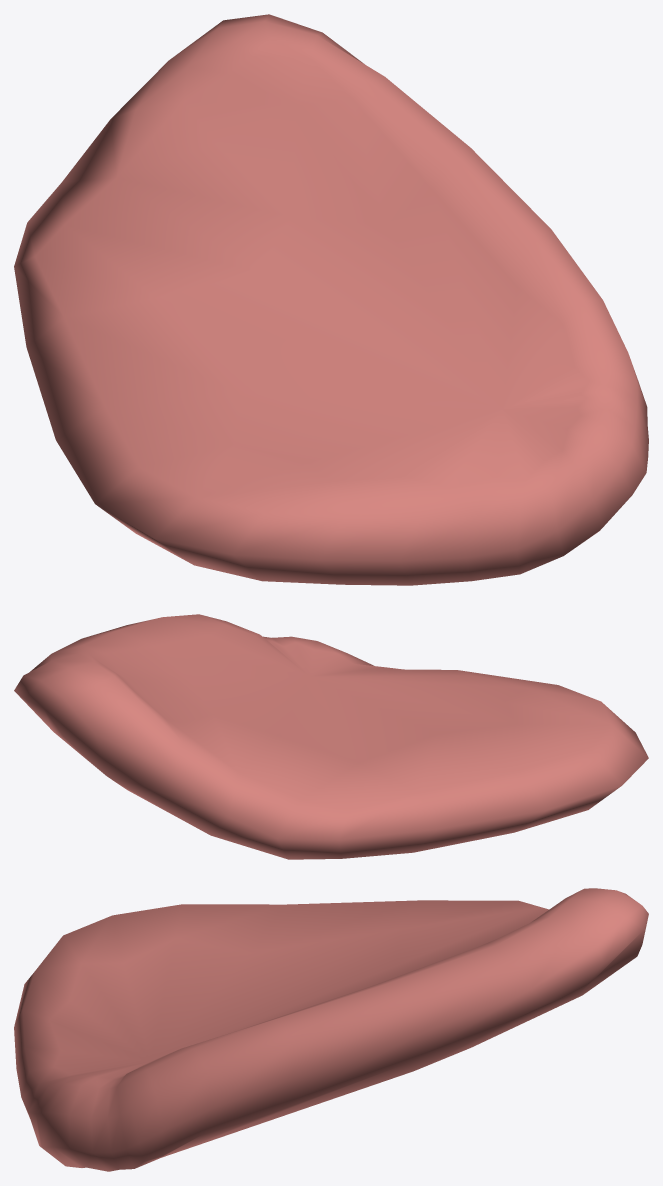
3 renders of one model, top to bottom at view 1: azimuth 30°, elevation 25°; view 2: azimuth 150°, elevation 25°; view 3: azimuth 270°, elevation 25°, orthographic. The views are drawn at different scales.
Parts seen in each view (by area): view 1: ZA_0351f66726ae3157; view 2: ZA_0351f66726ae3157; view 3: ZA_0351f66726ae3157.
Boxes of the visible parts, x1,y1,x2,y2 form: ZA_0351f66726ae3157: [14, 14, 648, 585]; ZA_0351f66726ae3157: [14, 614, 648, 859]; ZA_0351f66726ae3157: [14, 888, 648, 1171].
Bounding box in the file's own units: 0.00266 × 0.00147 × 0.00316.
